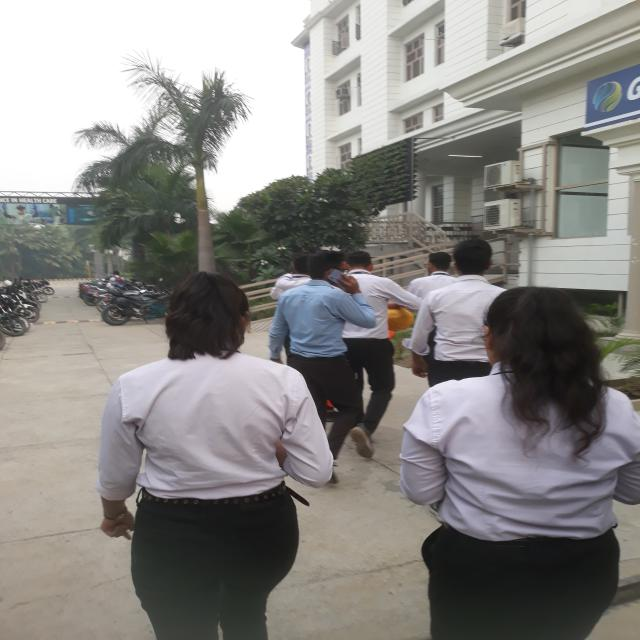unsafe: (417, 276, 629, 638), (96, 278, 296, 636), (276, 250, 352, 473), (413, 236, 504, 379), (349, 249, 396, 462)
